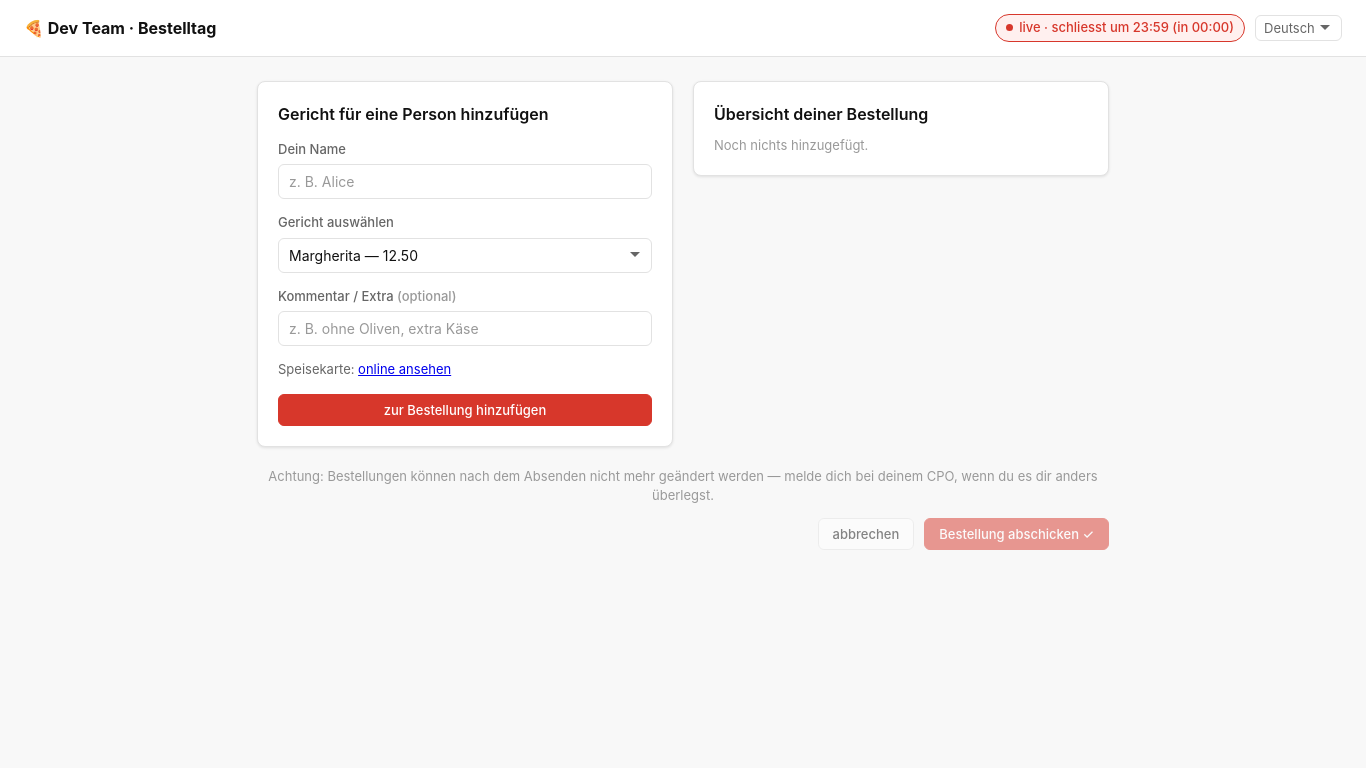
Test: TeamOrderPage › translation › translates the rate-limit banner
Type "Anna" into the field labelled "Dein Name" at [465, 182], box top-left (278, 164), bottom-right (652, 199)
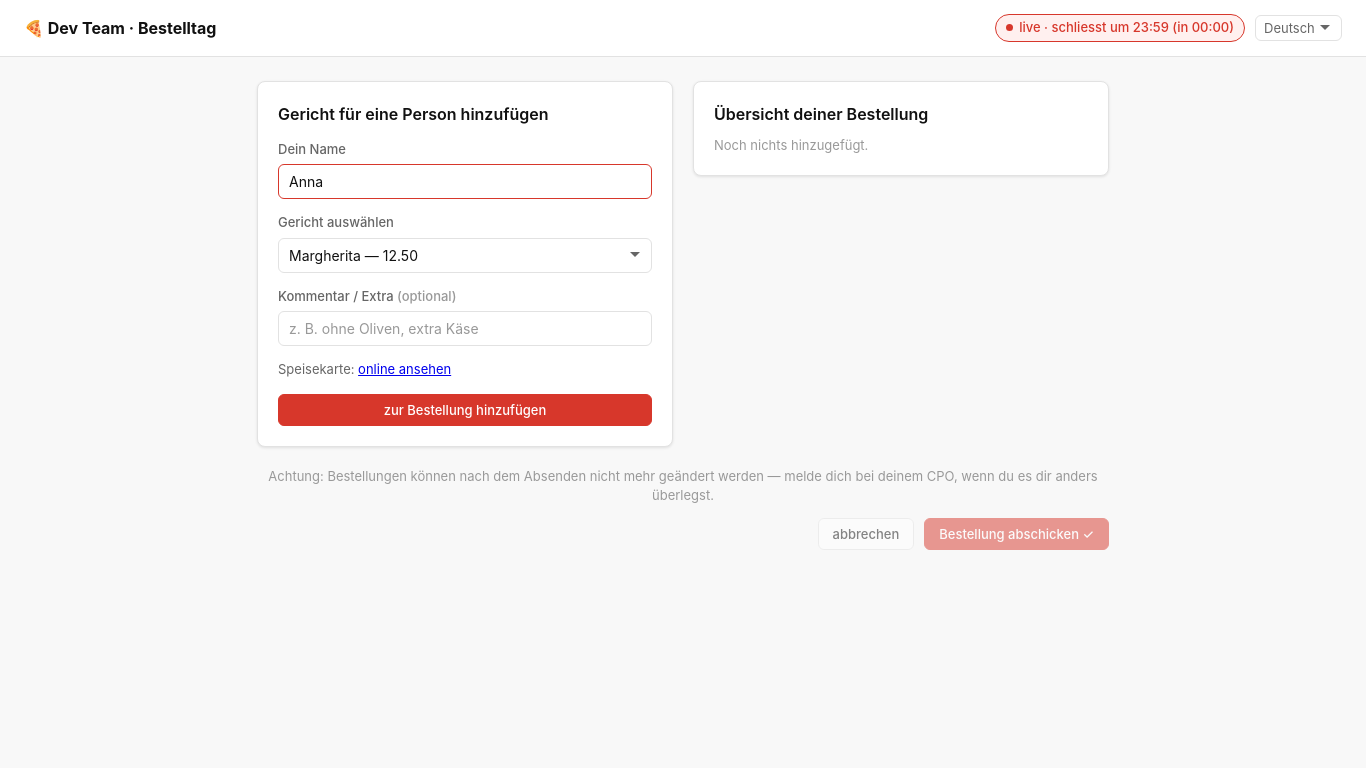
Click the button "zur Bestellung hinzufügen" at [465, 410], box top-left (278, 394), bottom-right (652, 426)
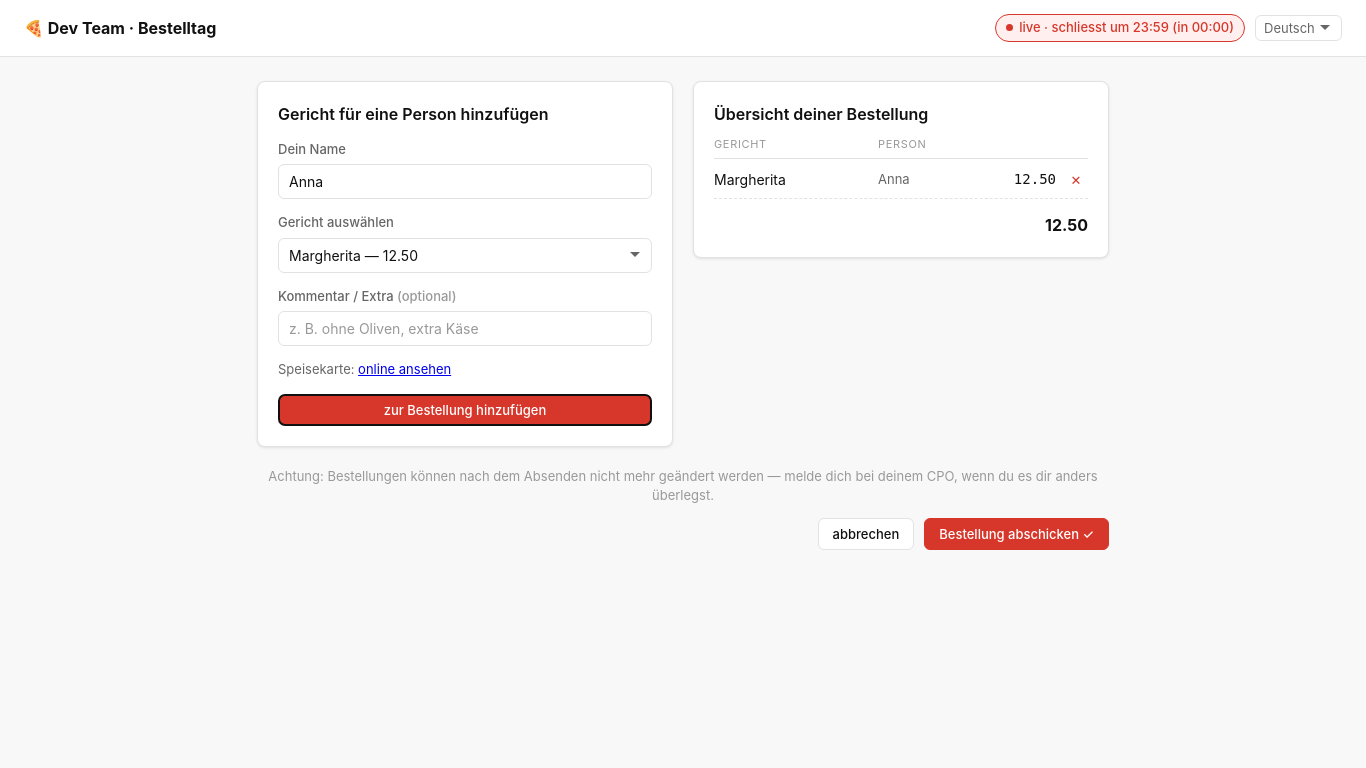
Click the button "Bestellung abschicken ✓" at [1017, 534], box top-left (924, 518), bottom-right (1109, 550)
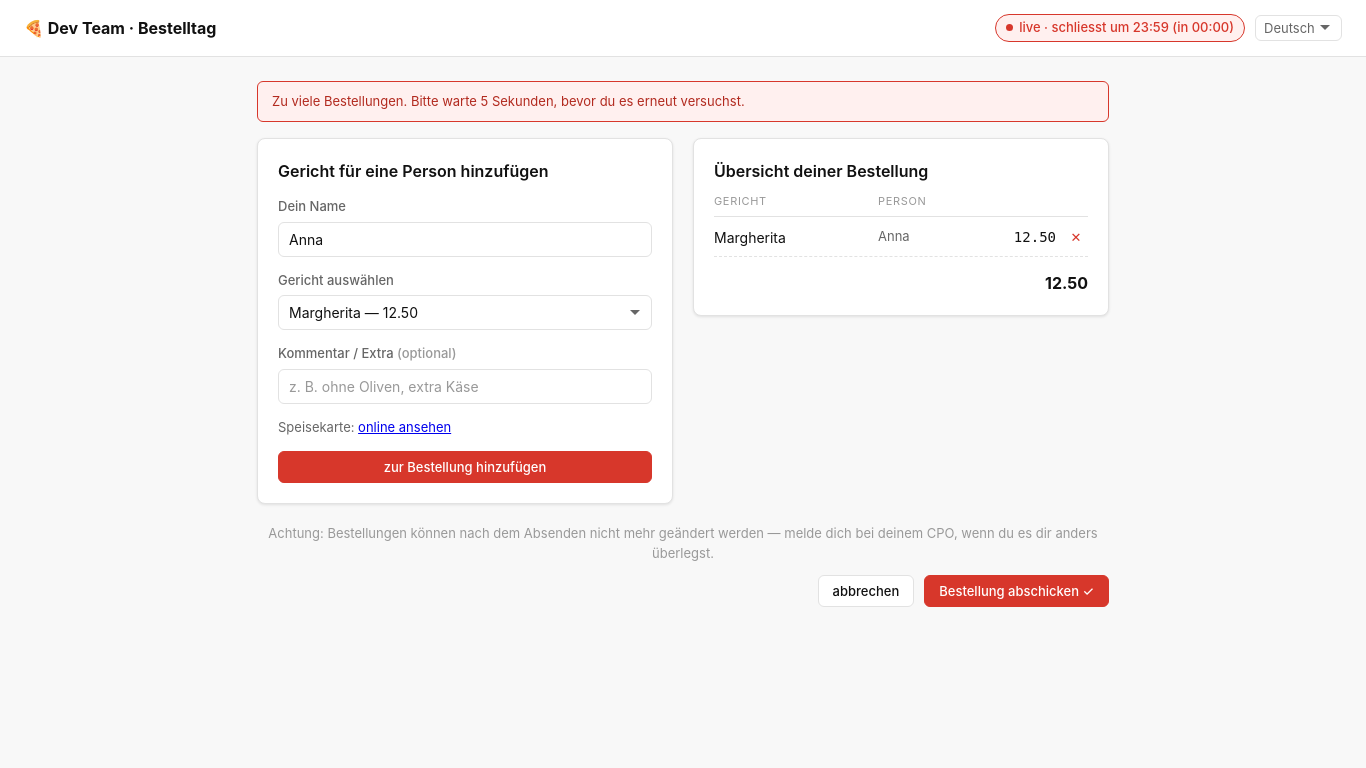
Now the text "Zu viele Bestellungen" is shown, box top-left (272, 92), bottom-right (745, 108)
